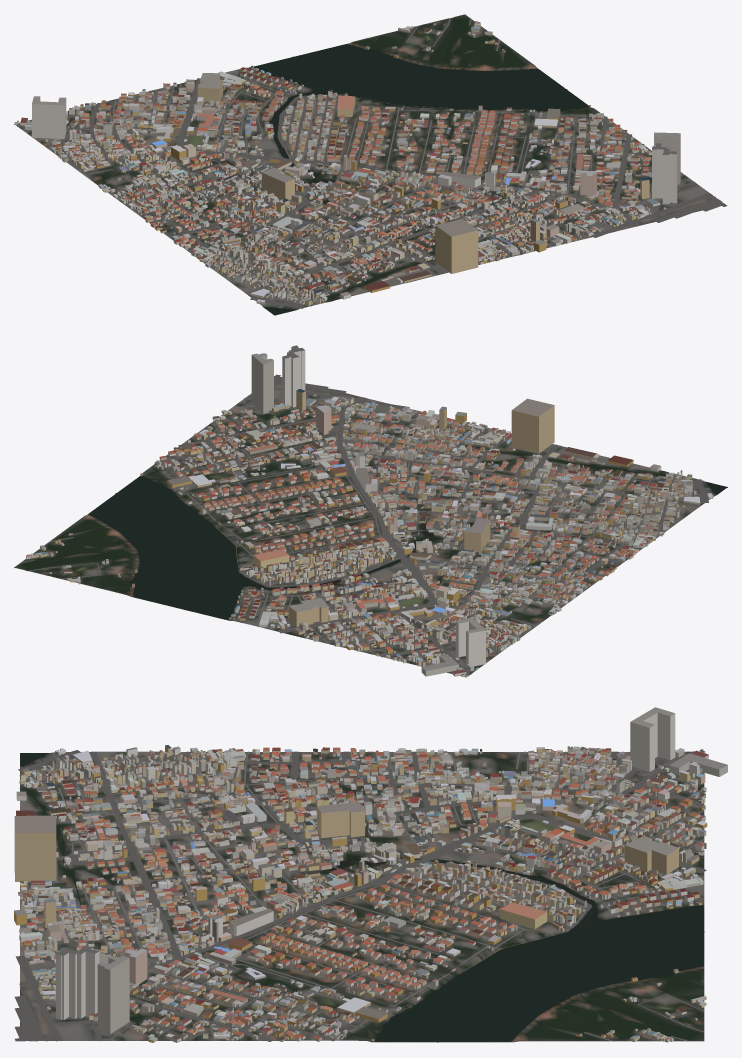
3 renders of one model, top to bottom at view 1: azimuth 30°, elevation 25°; view 2: azimuth 150°, elevation 25°; view 3: azimuth 270°, elevation 25°, orthographic. The views are drawn at different scales.
Visible parts, largest first — view 1: buildings, ground, water, roads; view 2: buildings, ground, water, roads; view 3: buildings, ground, water, roads.
Boxes of the visible parts, bbox=[...] form: buildings: bbox=[14, 21, 680, 305]; ground: bbox=[14, 14, 713, 315]; water: bbox=[254, 18, 589, 314]; roads: bbox=[17, 18, 727, 308]; buildings: bbox=[26, 345, 713, 677]; ground: bbox=[14, 384, 727, 677]; water: bbox=[28, 443, 726, 620]; roads: bbox=[20, 374, 708, 675]; buildings: bbox=[14, 707, 727, 1042]; ground: bbox=[20, 751, 704, 1042]; water: bbox=[20, 753, 704, 1042]; roads: bbox=[14, 750, 706, 1041].
Size of the model in its own units: 1418 by 151 by 1461.
